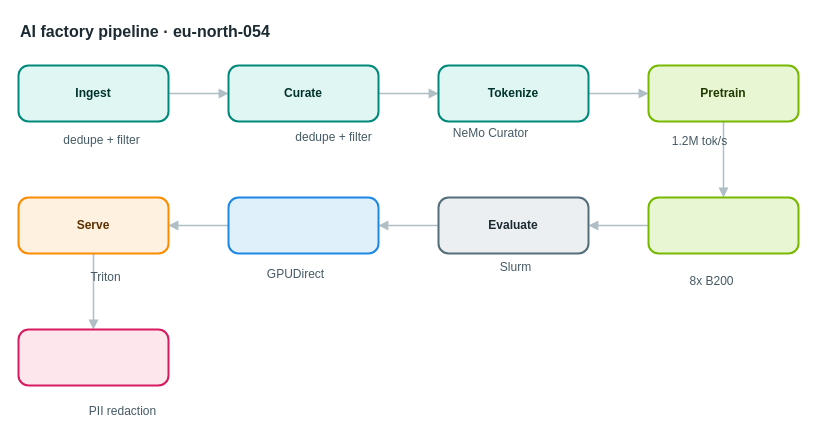
Some shapes in this 816 by 438 pixel diagram are drawn without their labels. Here are the shapes that lost their labels. From the top down, the centre of each, then its label:
At pixel 303 225: "Model registry".
At pixel 723 225: "Fine-tune".
At pixel 93 357: "Guardrails".
